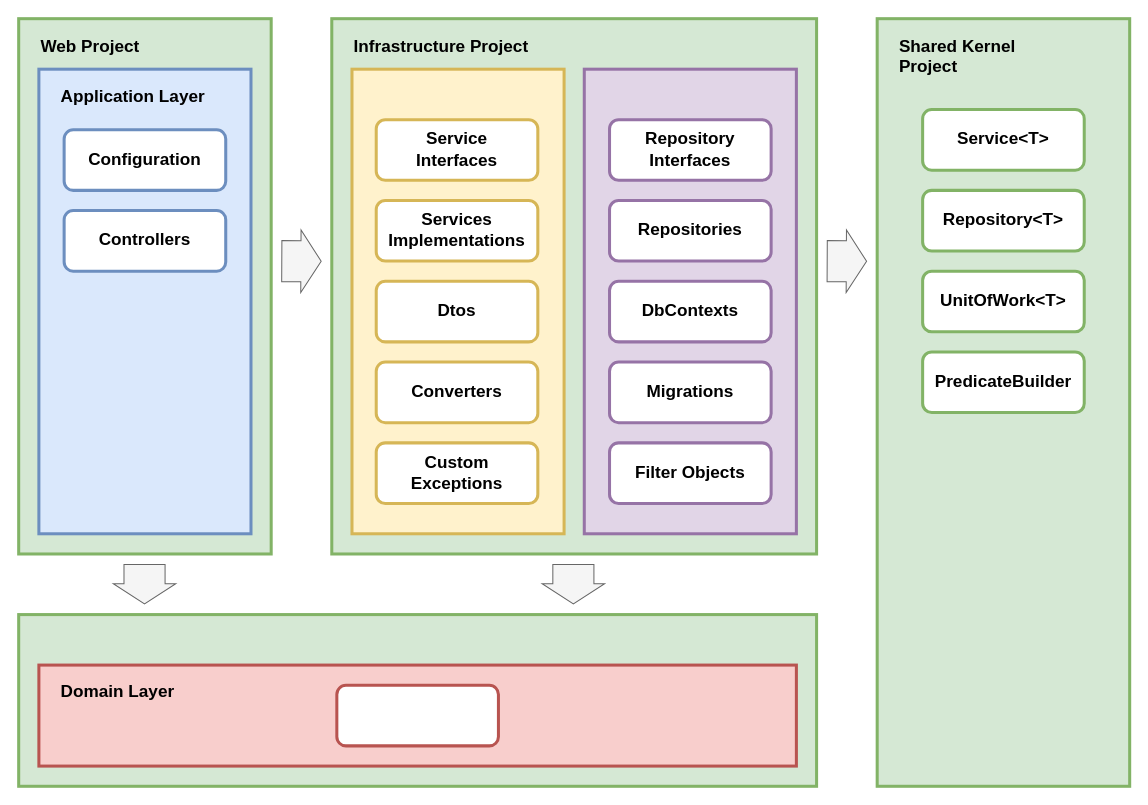
Some shapes in this 1148 by 805 pixel diagram are drawn without their labels. The box of each missing label's shape, as (x1, y1, x2, y2) in pixels:
Business Layer: (350, 67, 565, 535)
Core Project: (17, 613, 818, 787)
Data Layer: (582, 67, 797, 535)
Entities: (335, 683, 499, 747)
